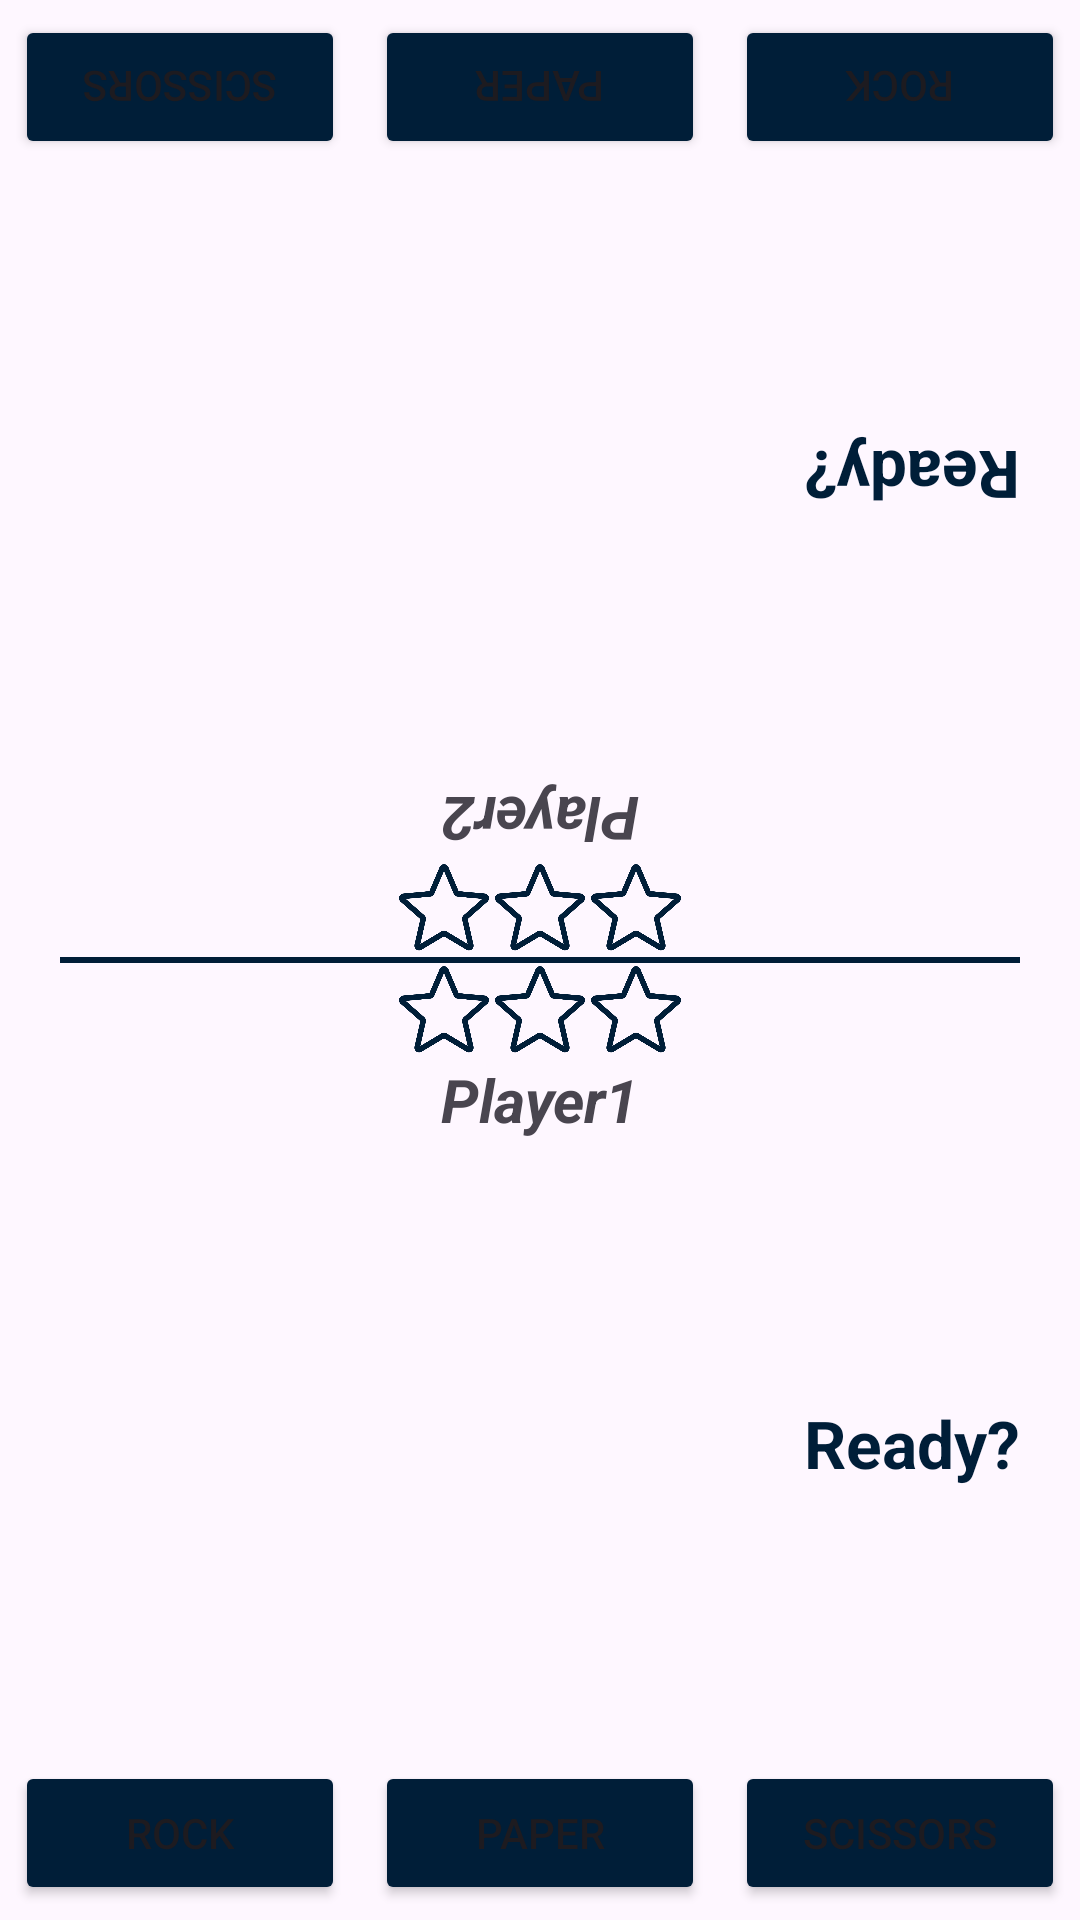

Icons on this 1080x1920 Android screen, each with the point to tap as [x,y]:
star: [444,907], [540,907], [636,907], [444,1009], [540,1009], [636,1009]
